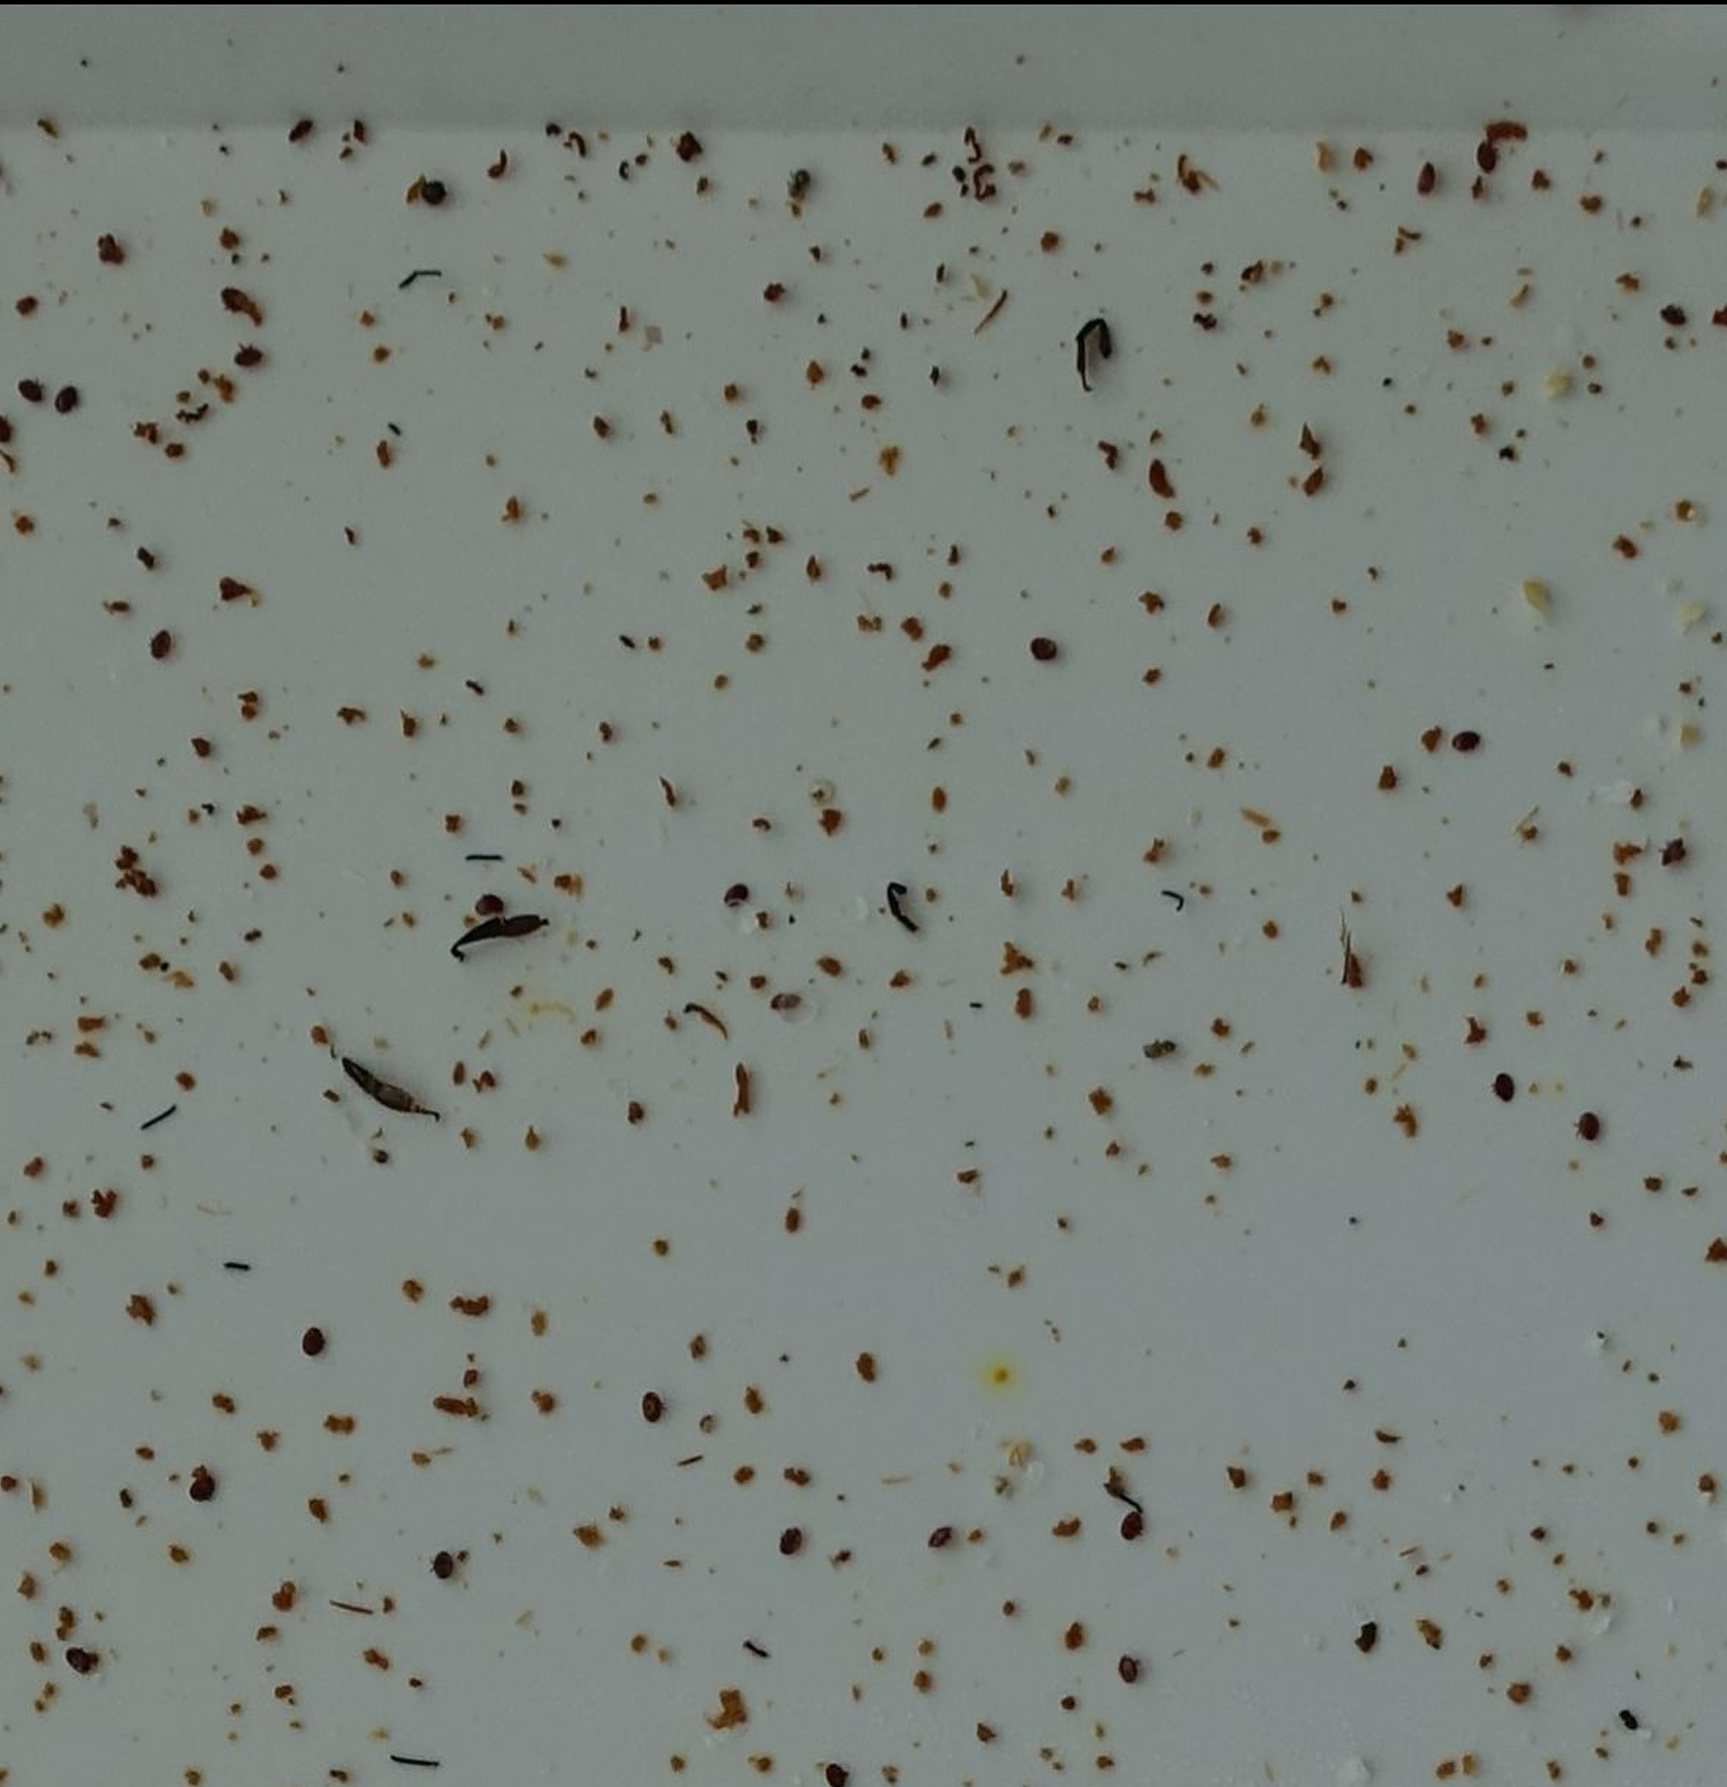Varroa: (918, 1516, 962, 1559), (184, 1466, 220, 1508), (1403, 160, 1438, 195), (423, 1549, 456, 1584), (14, 380, 46, 413), (46, 385, 78, 416), (642, 1394, 672, 1426), (765, 1524, 796, 1554), (1452, 731, 1483, 761), (469, 889, 500, 919), (721, 882, 752, 913), (1658, 306, 1689, 335), (1574, 1112, 1603, 1142), (300, 1324, 329, 1355), (1119, 1509, 1148, 1540), (1026, 629, 1057, 657), (1475, 147, 1504, 177), (1491, 1074, 1520, 1103), (1116, 1658, 1144, 1686), (225, 286, 254, 314), (148, 630, 176, 661), (236, 348, 263, 377), (69, 1647, 96, 1674), (784, 1533, 809, 1560)
